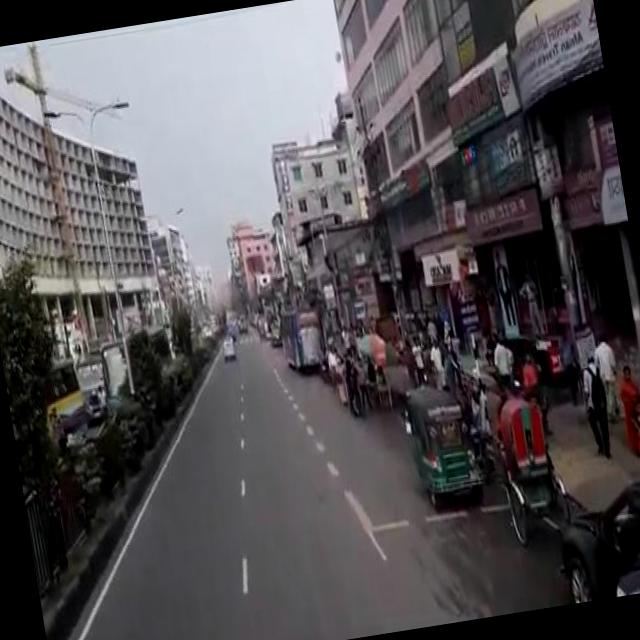bus: (5, 354, 94, 460), (96, 318, 179, 399), (278, 302, 330, 366), (75, 348, 111, 417)
car: (550, 472, 640, 603)
motorcycle: (492, 389, 576, 542), (403, 378, 488, 498), (221, 332, 236, 357)
